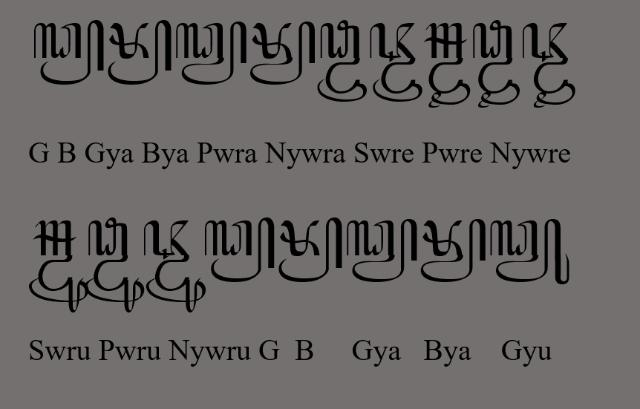-B: (108, 19, 172, 85), (279, 218, 343, 283)
-G: (33, 19, 106, 86), (204, 217, 276, 283)
By: (420, 219, 486, 284), (250, 21, 316, 85)
Gy: (175, 21, 247, 86), (346, 219, 418, 284)
Gyu: (490, 219, 570, 285)
Nywr: (369, 22, 423, 102)
Nywre: (522, 22, 576, 109)
Nywru: (144, 220, 206, 314)
Pwr: (317, 19, 367, 103)
Pwre: (472, 20, 520, 109)
Pwru: (86, 217, 146, 313)
Swre: (423, 22, 471, 108)
Swru: (30, 220, 89, 312)
